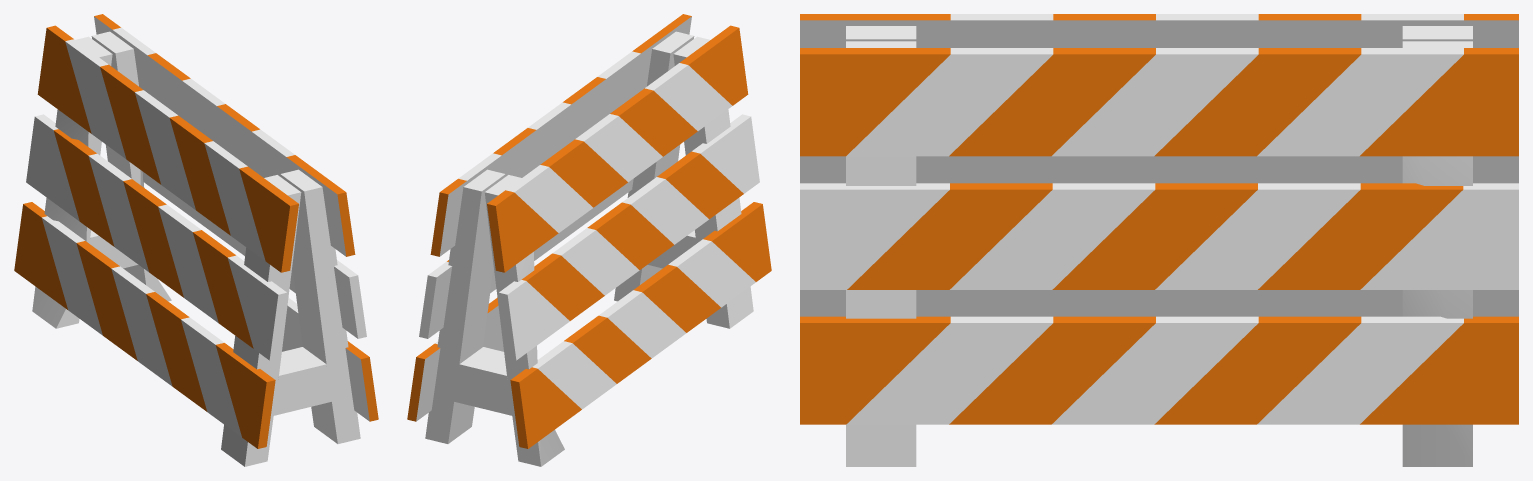
File: Road_obsticle.fbx
The picture shows the model from 3 angles, left to right: view 1: azimuth 30°, elevation 25°; view 2: azimuth 150°, elevation 25°; view 3: azimuth 270°, elevation 25°; orthographic projection. The views are drawn at different scales.
Parts seen in each view (by area): view 1: Cube_003_001; view 2: Cube_003_001; view 3: Cube_003_001.
Part boxes in pixels (x1,y1,x2,y2): Cube_003_001: [14, 14, 378, 466]; Cube_003_001: [407, 14, 771, 466]; Cube_003_001: [800, 14, 1518, 466].
Bounding box in the file's own units: 1242 × 2600 × 4331.
